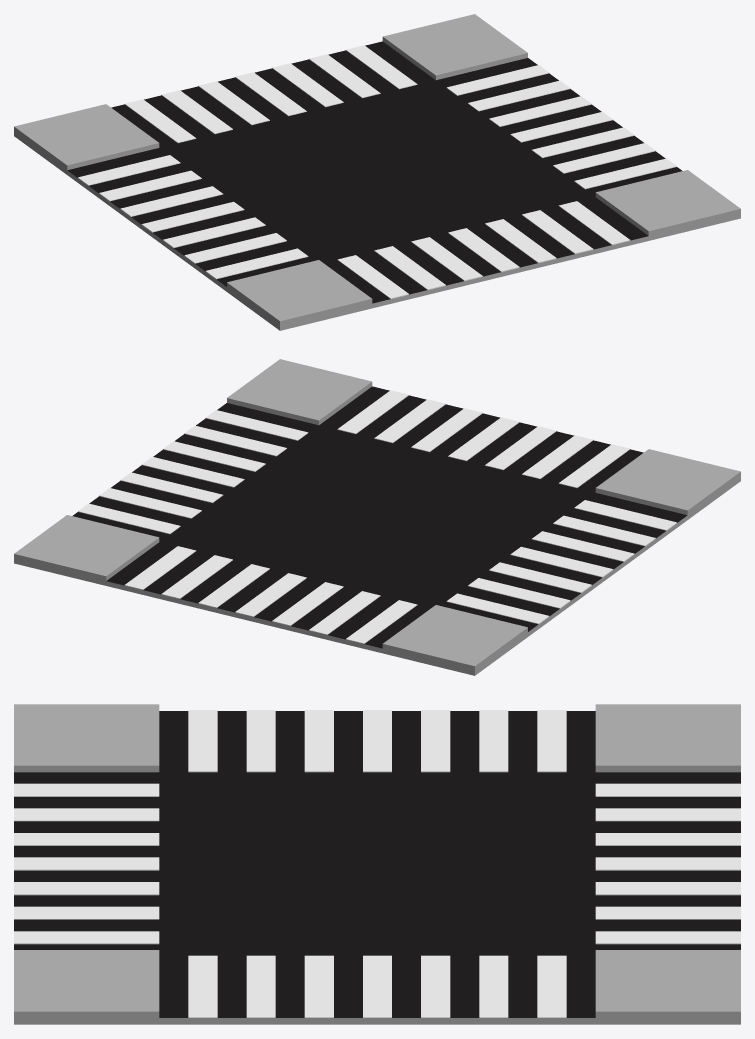
The model's file is Env_Road_Cross_02.fbx.
3 renders of one model, top to bottom at view 1: azimuth 30°, elevation 25°; view 2: azimuth 150°, elevation 25°; view 3: azimuth 270°, elevation 25°, orthographic. The views are drawn at different scales.
Parts seen in each view (by area): view 1: Env_Road_Cross_02; view 2: Env_Road_Cross_02; view 3: Env_Road_Cross_02.
Boxes of the visible parts, left/top/right/bottom form: Env_Road_Cross_02: left=14, top=14, right=740, bottom=330; Env_Road_Cross_02: left=14, top=359, right=740, bottom=675; Env_Road_Cross_02: left=14, top=704, right=740, bottom=1024.
Size of the model in its own units: 1000 by 20 by 1000.
Materials: 1 (1 with a texture image).
